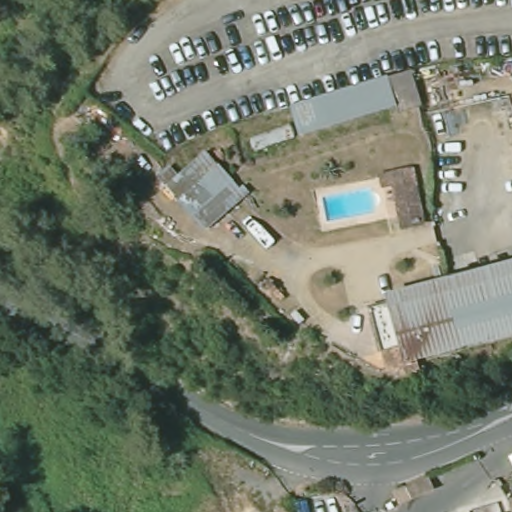pool: (317, 187, 387, 226)
